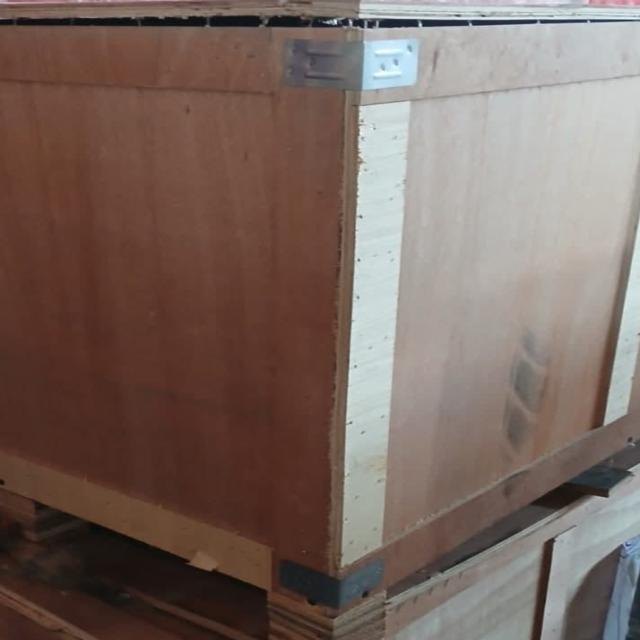package_damage: (2, 0, 640, 43)
wooden_box: (0, 0, 640, 610)
